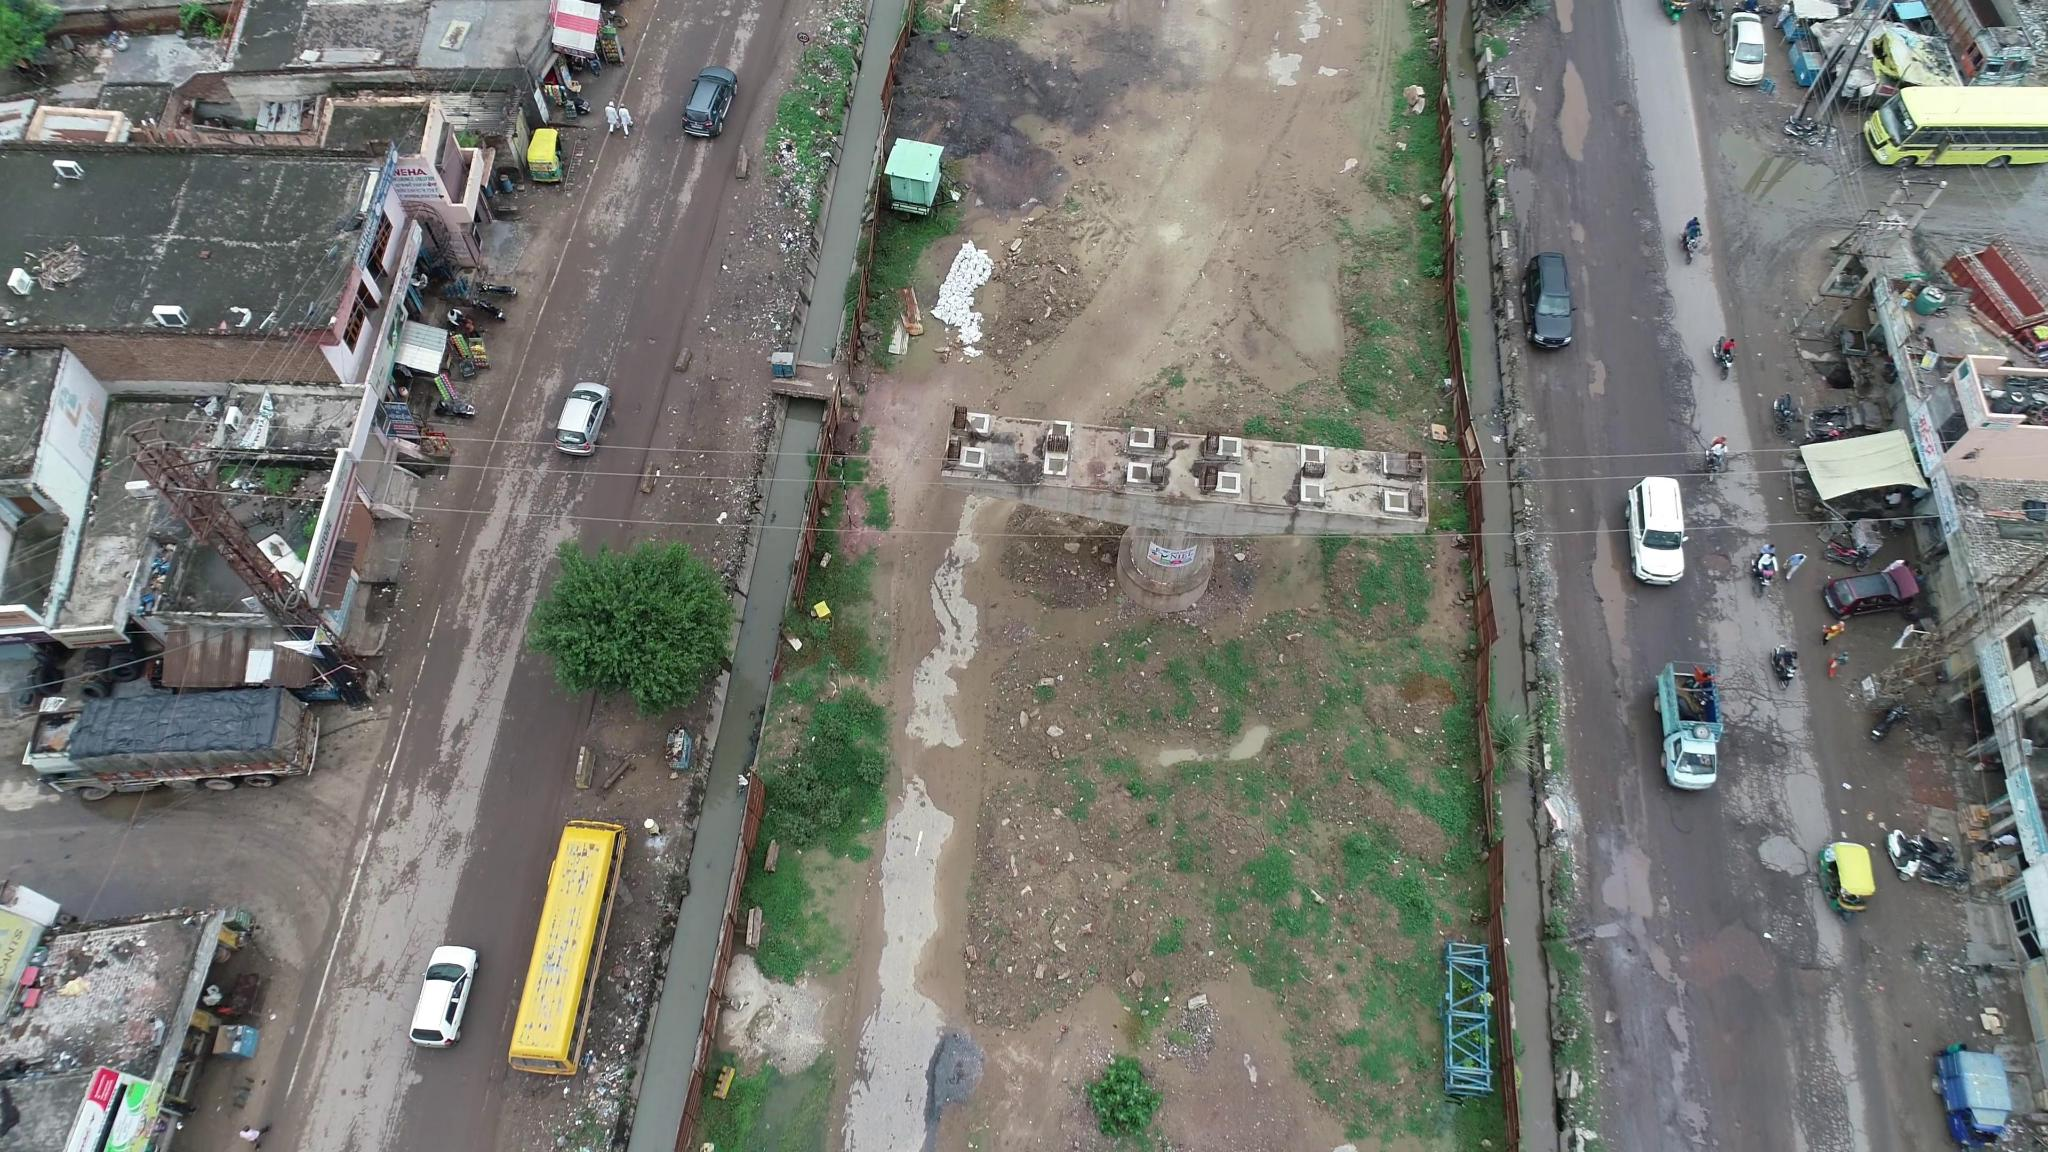Cracks: (1723, 651, 1805, 819)
